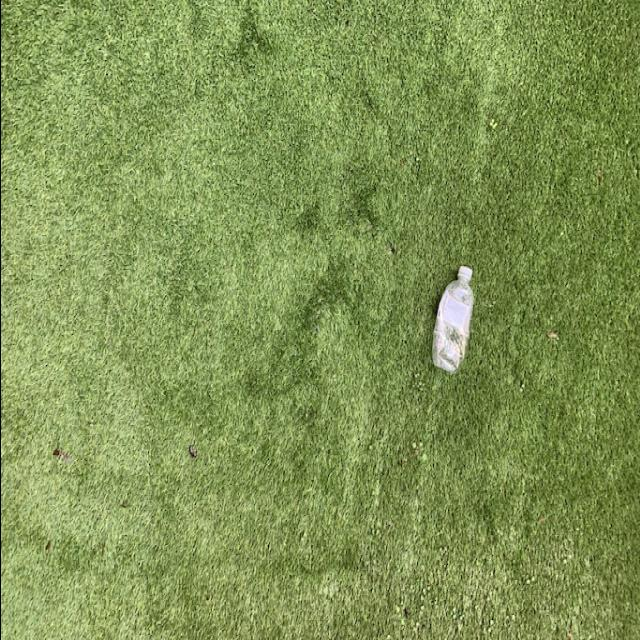litter: (429, 266, 476, 376)
